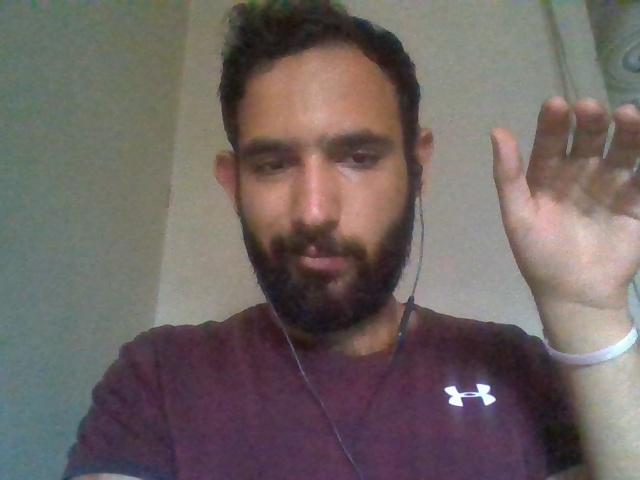Snake: (480, 76, 640, 480)
